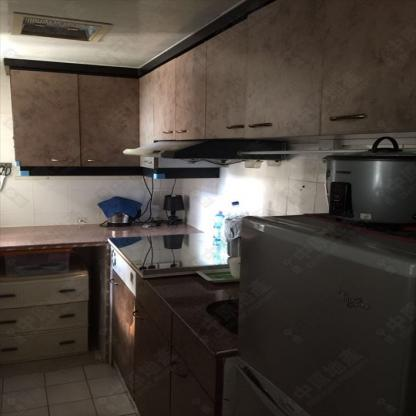Cupboard: (12, 0, 415, 176)
Exhaust Hood: (121, 141, 287, 168)
Fridge: (240, 213, 415, 415)
